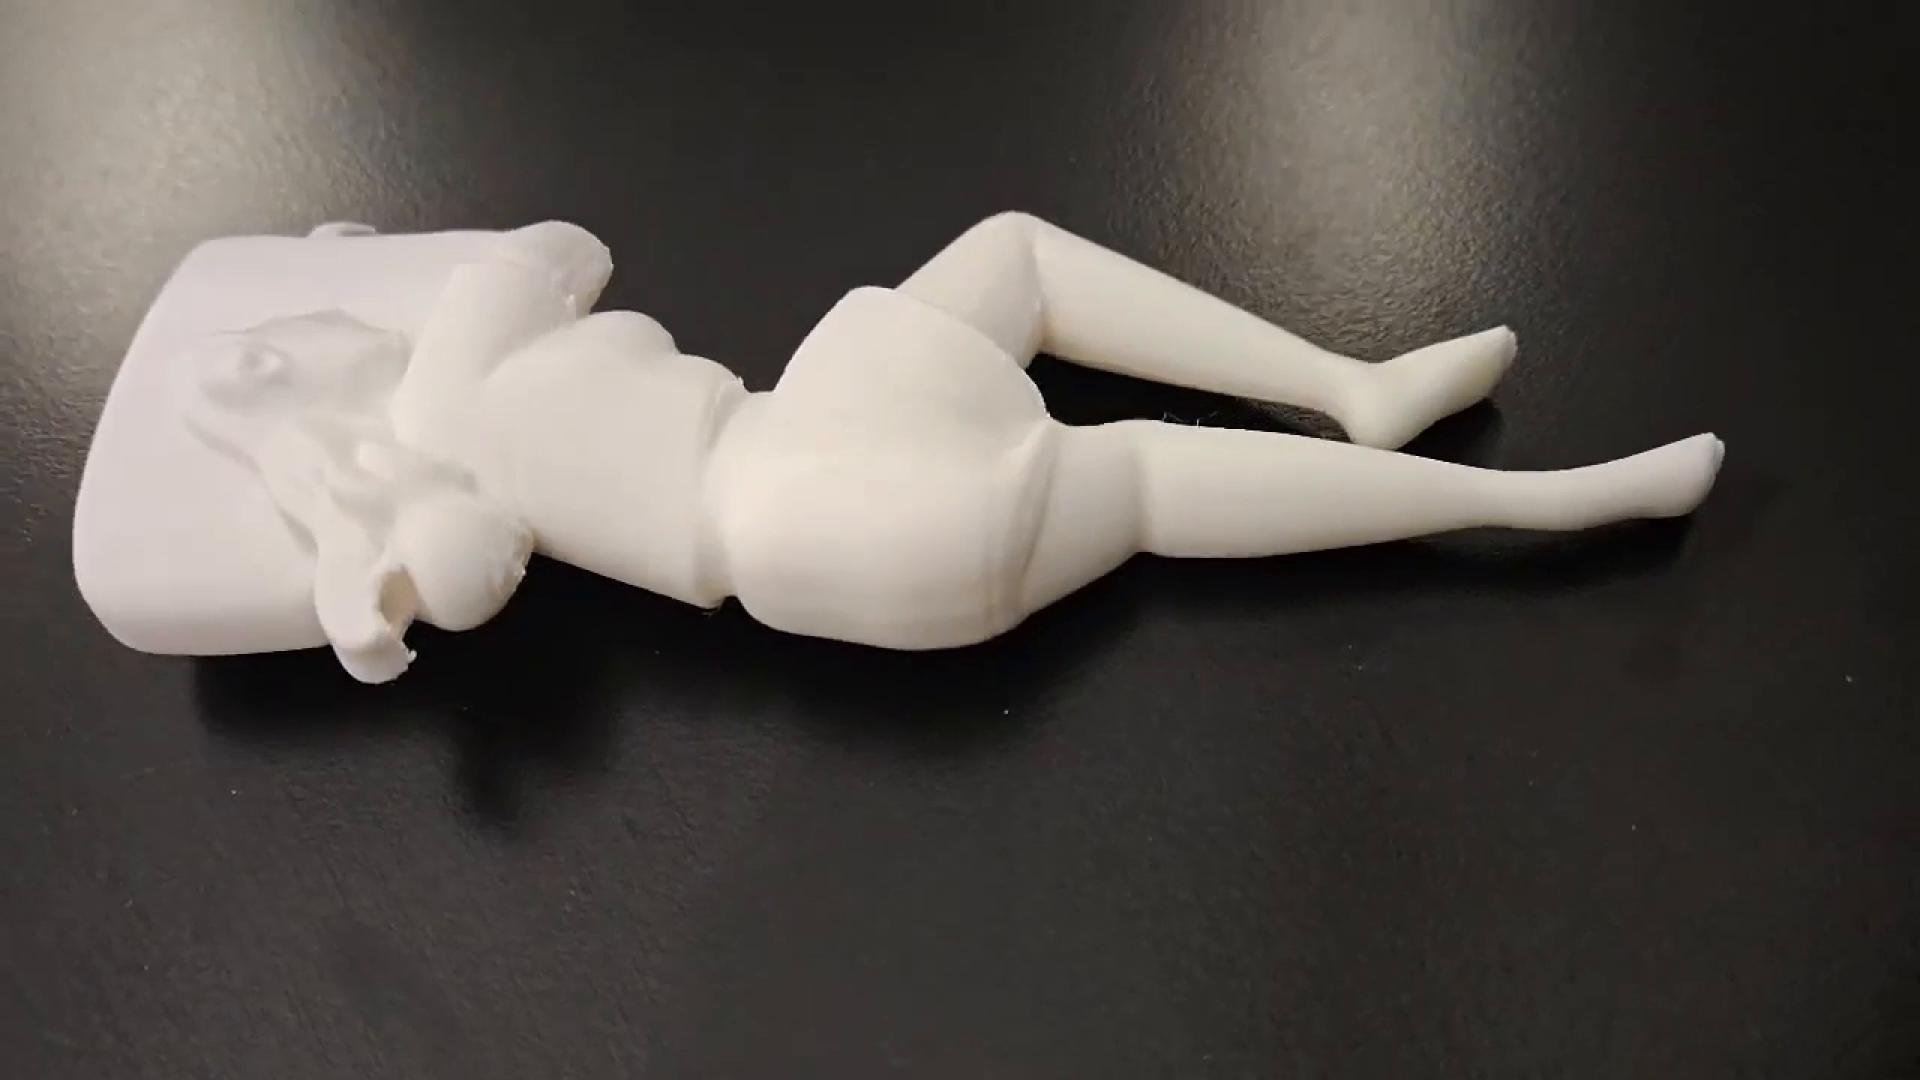Good-style: (61, 177, 1746, 700)
